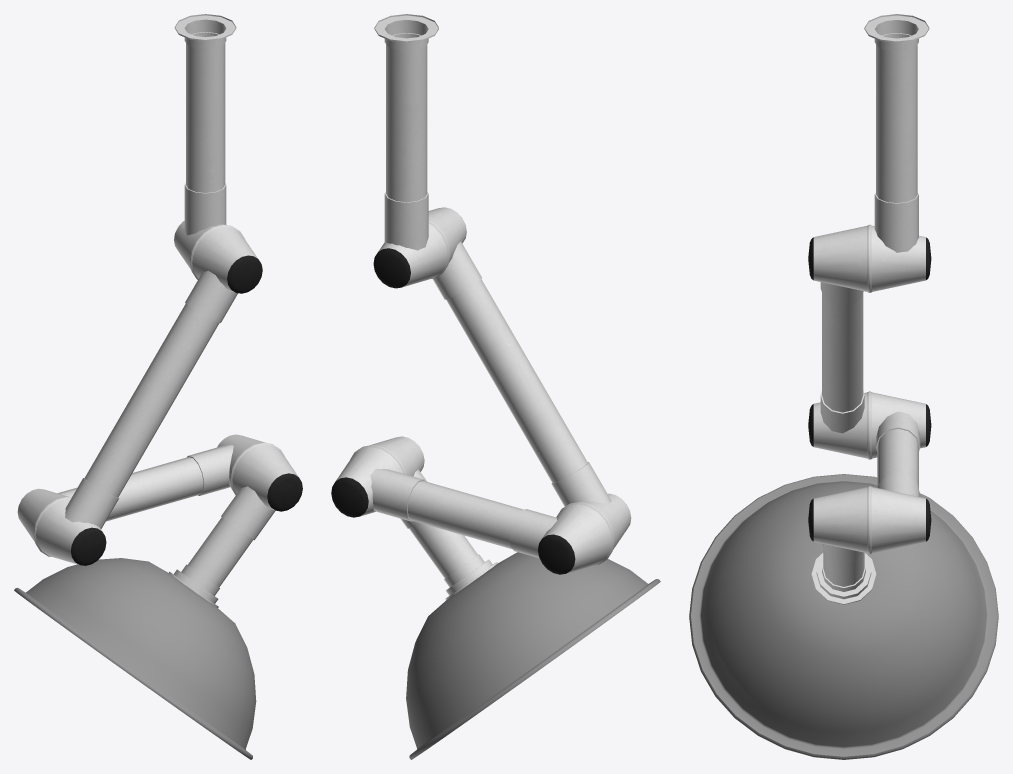
The model's file is SM_吊顶式排气罩_009.fbx.
3 views of the same model, side by side, from view 1: azimuth 30°, elevation 25°; view 2: azimuth 150°, elevation 25°; view 3: azimuth 270°, elevation 25° (orthographic). The views are drawn at different scales.
Parts seen in each view (by area): view 1: SM_吊顶式排气罩_009; view 2: SM_吊顶式排气罩_009; view 3: SM_吊顶式排气罩_009.
Part boxes in pixels (x1,y1,x2,y2): SM_吊顶式排气罩_009: (14, 14, 302, 759); SM_吊顶式排气罩_009: (331, 14, 660, 759); SM_吊顶式排气罩_009: (689, 14, 998, 759).
Bounding box in the file's own units: 76.26 × 195 × 74.46.
